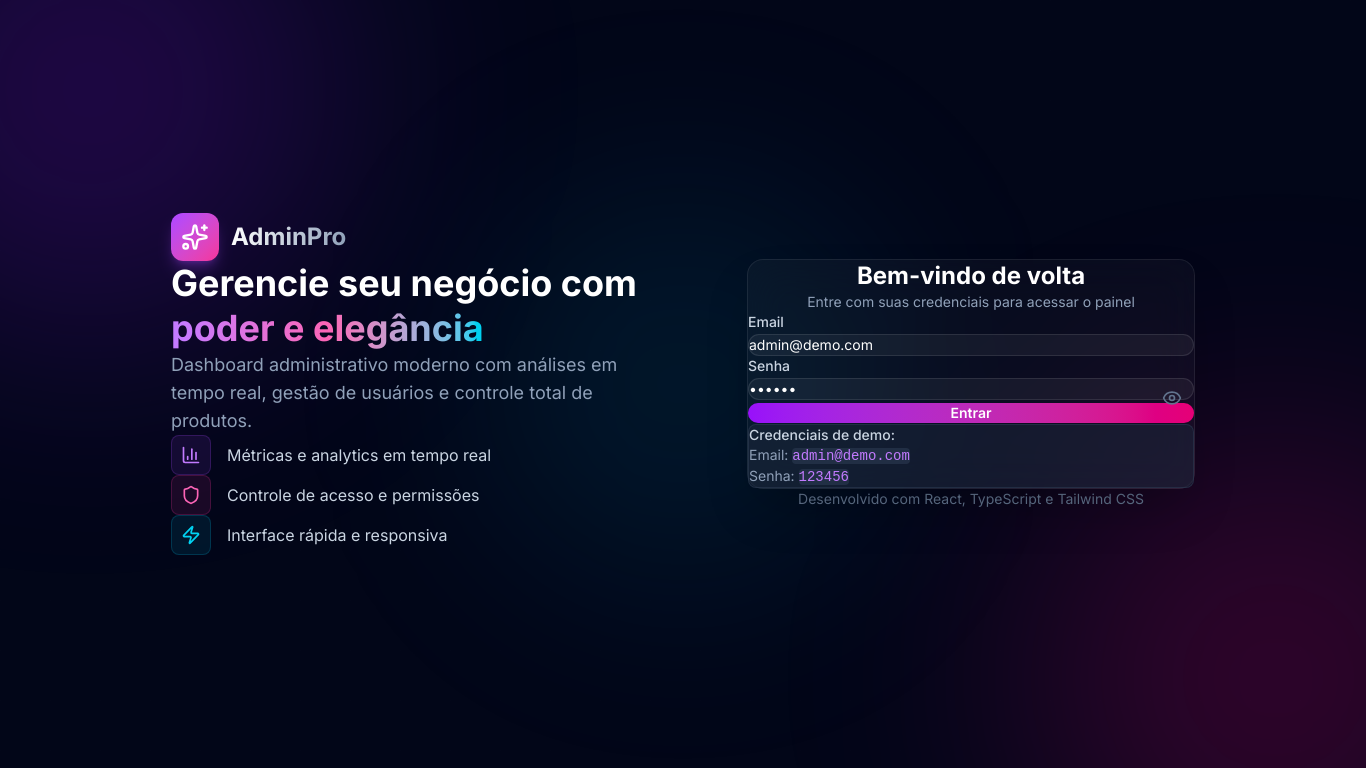
it: LoginPage › shows error for short password
Type "123" into the password field labelled "Senha".
click(971, 389); type("123")  # box [748, 378, 1194, 400]
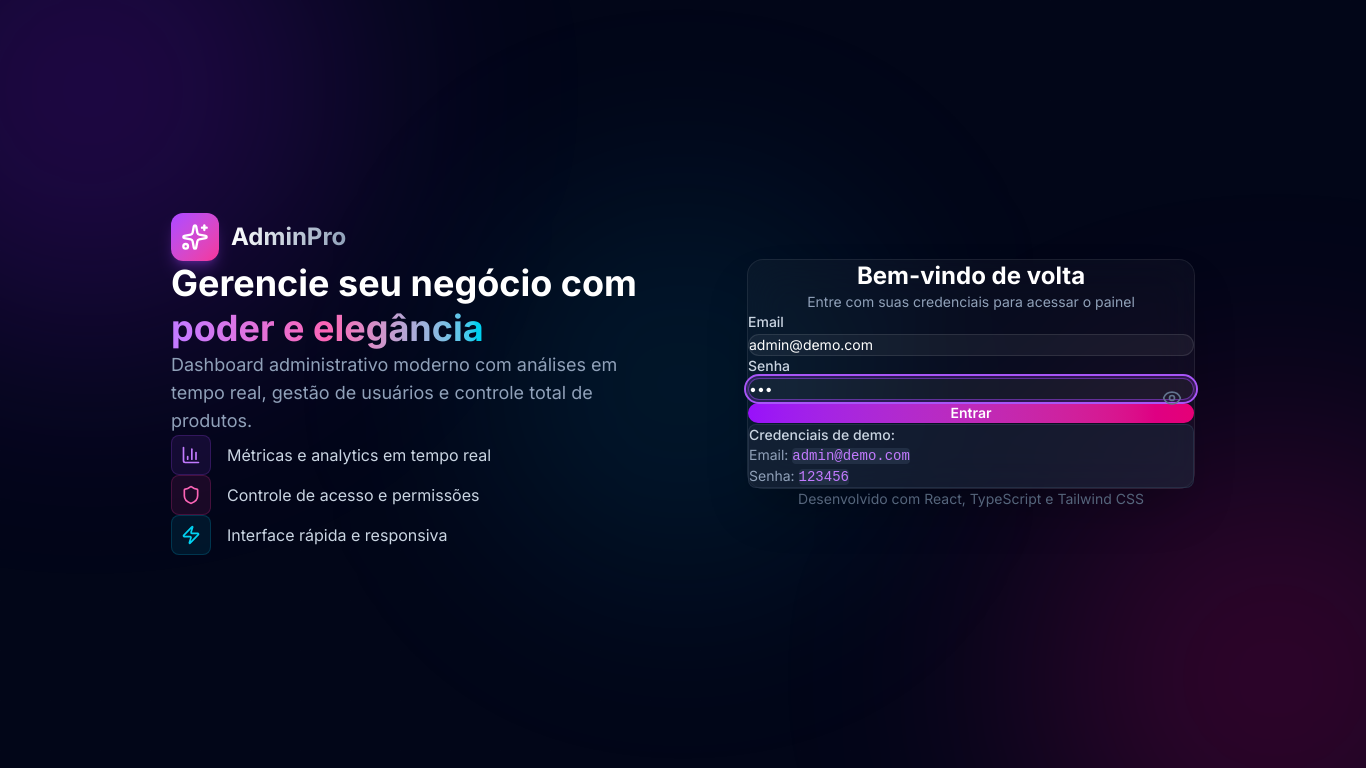
Click the button "Entrar".
click(971, 413)  # box [748, 403, 1194, 423]
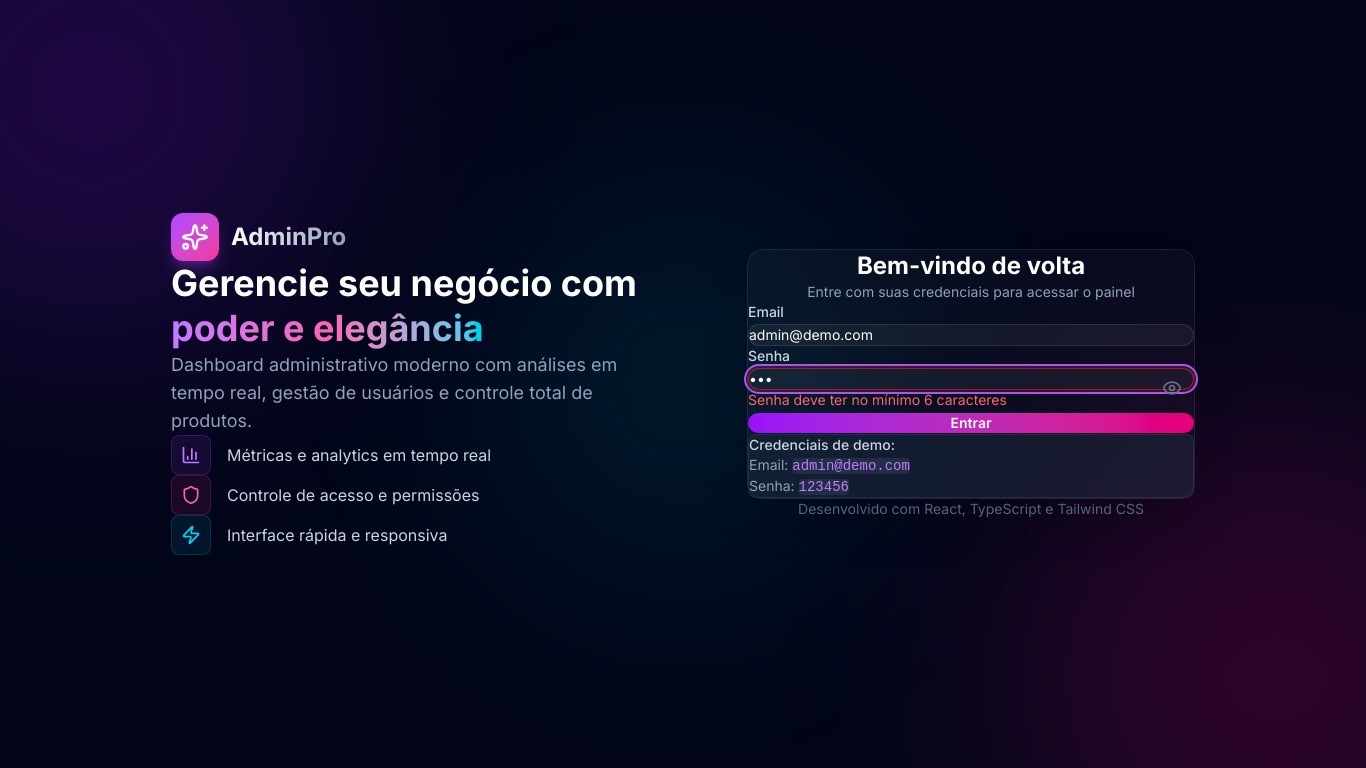
Result: the text "Senha deve ter no mínimo 6 caracteres" is shown at [748, 391, 1007, 408]
